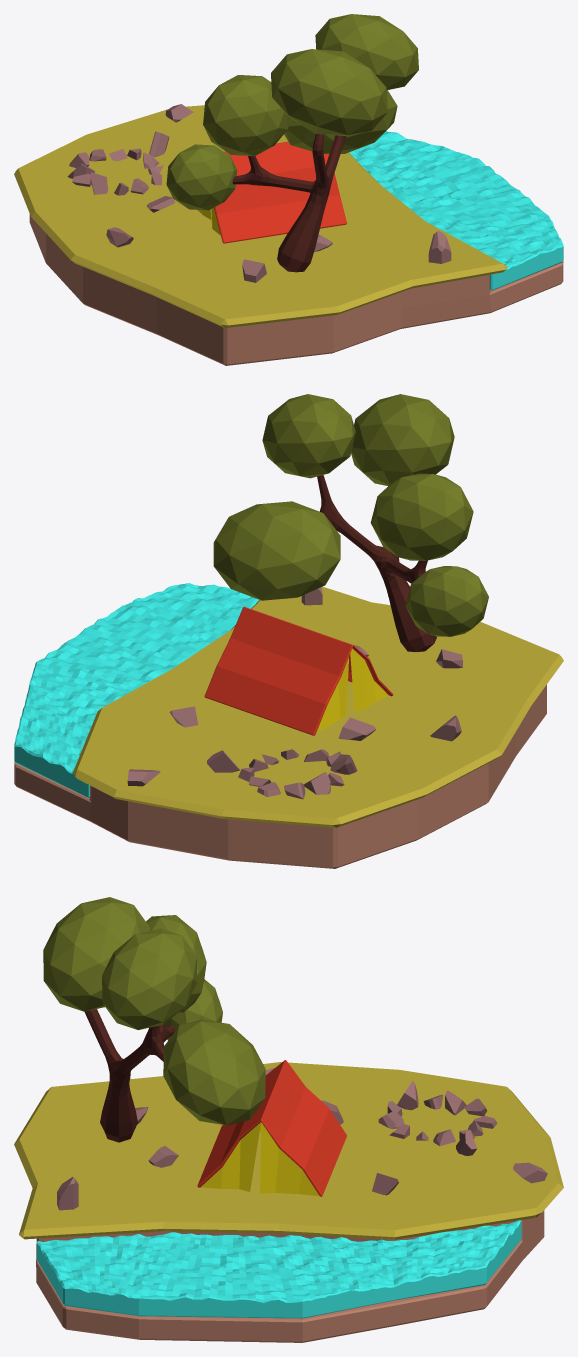
File: Diorama.fbx
The picture shows the model from 3 angles, top to bottom: view 1: azimuth 30°, elevation 25°; view 2: azimuth 150°, elevation 25°; view 3: azimuth 270°, elevation 25°; orthographic projection. The views are drawn at different scales.
Visible parts, largest first — view 1: Pasto, Tierra, Agua, Icosphere, Plane, Icosphere.003, Icosphere.001, Tronco, Icosphere.004, Icosphere.002, Cube_cell.028, Cube_cell.026; view 2: Pasto, Agua, Tierra, Plane, Icosphere.002, Icosphere, Icosphere.003, Icosphere.001, Icosphere.004, Tronco, Plane.002, Cube_cell.082; view 3: Pasto, Agua, Tierra, Icosphere.002, Plane, Icosphere.001, Icosphere, Tronco, Plane.001, Icosphere.003, Icosphere.004, Cube_cell.028.
Part boxes in pixels (bbox=[...]): Pasto: bbox=[14, 105, 507, 327]; Tierra: bbox=[29, 214, 563, 365]; Agua: bbox=[349, 131, 563, 290]; Icosphere: bbox=[271, 49, 387, 136]; Plane: bbox=[214, 141, 346, 243]; Icosphere.003: bbox=[203, 75, 288, 156]; Icosphere.001: bbox=[315, 14, 418, 90]; Tronco: bbox=[232, 134, 346, 272]; Icosphere.004: bbox=[166, 144, 237, 210]; Icosphere.002: bbox=[284, 90, 397, 153]; Cube_cell.028: bbox=[428, 230, 451, 263]; Cube_cell.026: bbox=[242, 259, 266, 282]; Pasto: bbox=[73, 586, 563, 827]; Agua: bbox=[14, 583, 259, 797]; Tierra: bbox=[14, 684, 546, 868]; Plane: bbox=[204, 606, 393, 735]; Icosphere.002: bbox=[213, 501, 340, 600]; Icosphere: bbox=[351, 394, 454, 485]; Icosphere.003: bbox=[370, 473, 473, 560]; Icosphere.001: bbox=[262, 394, 355, 478]; Icosphere.004: bbox=[405, 566, 488, 636]; Tronco: bbox=[317, 475, 436, 651]; Plane.002: bbox=[316, 648, 388, 731]; Cube_cell.082: bbox=[338, 717, 375, 740]; Pasto: bbox=[14, 1062, 563, 1239]; Agua: bbox=[36, 1220, 521, 1318]; Tierra: bbox=[36, 1210, 544, 1342]; Icosphere.002: bbox=[163, 1019, 265, 1125]; Plane: bbox=[197, 1060, 346, 1196]; Icosphere.001: bbox=[102, 928, 196, 1029]; Icosphere: bbox=[43, 897, 150, 1011]; Tronco: bbox=[84, 1009, 175, 1142]; Plane.001: bbox=[201, 1122, 319, 1195]; Icosphere.003: bbox=[146, 915, 206, 1012]; Icosphere.004: bbox=[164, 979, 222, 1040]; Cube_cell.028: bbox=[57, 1177, 78, 1210].
Size of what is drawn, in the model's own units: 992 by 628 by 1020.
